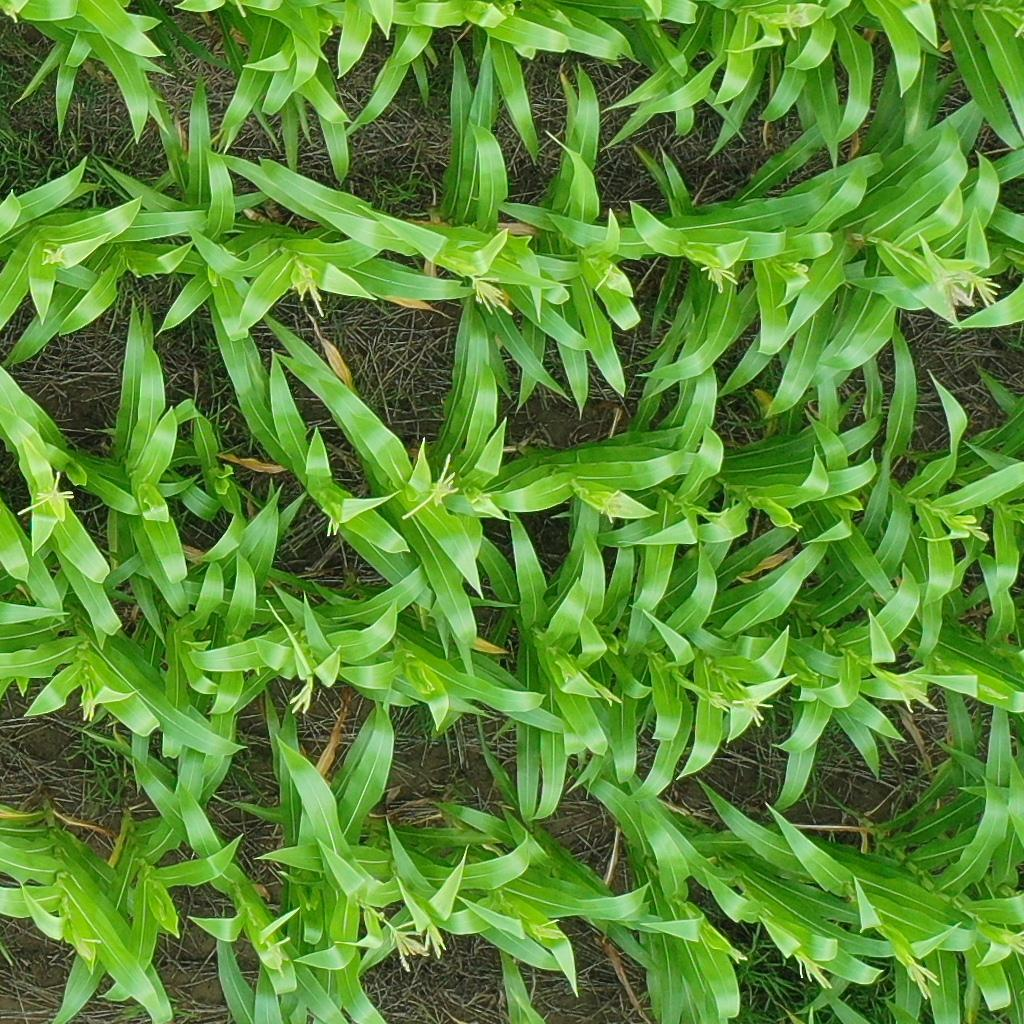Tassel: (401, 452, 462, 520), (15, 470, 74, 515), (387, 919, 429, 972), (288, 264, 327, 318), (469, 275, 515, 319), (902, 956, 941, 1002), (897, 675, 938, 715), (793, 952, 835, 989), (932, 271, 974, 308), (700, 261, 740, 296), (733, 695, 775, 727), (968, 271, 1003, 307), (265, 936, 294, 978), (781, 2, 810, 40), (288, 674, 314, 715), (72, 932, 102, 967), (596, 490, 626, 523), (531, 918, 566, 942), (425, 923, 448, 959), (591, 264, 620, 290), (81, 681, 98, 722), (38, 246, 69, 267), (1001, 927, 1024, 954), (706, 690, 730, 714), (976, 684, 1008, 702), (469, 488, 495, 509), (1, 1, 22, 24), (966, 522, 990, 542), (327, 516, 345, 539), (727, 947, 749, 965), (788, 260, 810, 275)
